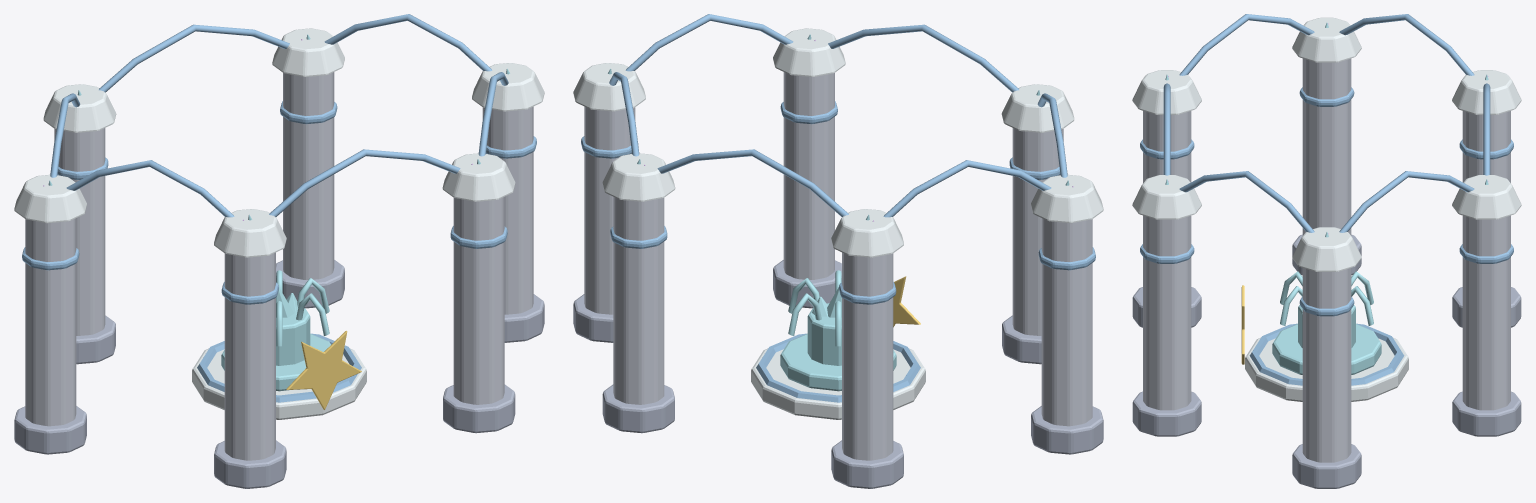
File: northern_hall_centerpiece.glb
The picture shows the model from 3 angles, left to right: view 1: azimuth 30°, elevation 25°; view 2: azimuth 150°, elevation 25°; view 3: azimuth 270°, elevation 25°; orthographic projection. The views are drawn at different scales.
Visible parts, largest first — view 1: northern_hall_centerpiece.001; view 2: northern_hall_centerpiece.001; view 3: northern_hall_centerpiece.001.
Part boxes in pixels (left/top/right/bottom): northern_hall_centerpiece.001: left=14, top=14, right=544, bottom=488; northern_hall_centerpiece.001: left=573, top=14, right=1103, bottom=488; northern_hall_centerpiece.001: left=1132, top=14, right=1521, bottom=488.
Size of the model in its own units: 32.9 by 18 by 22.79.
